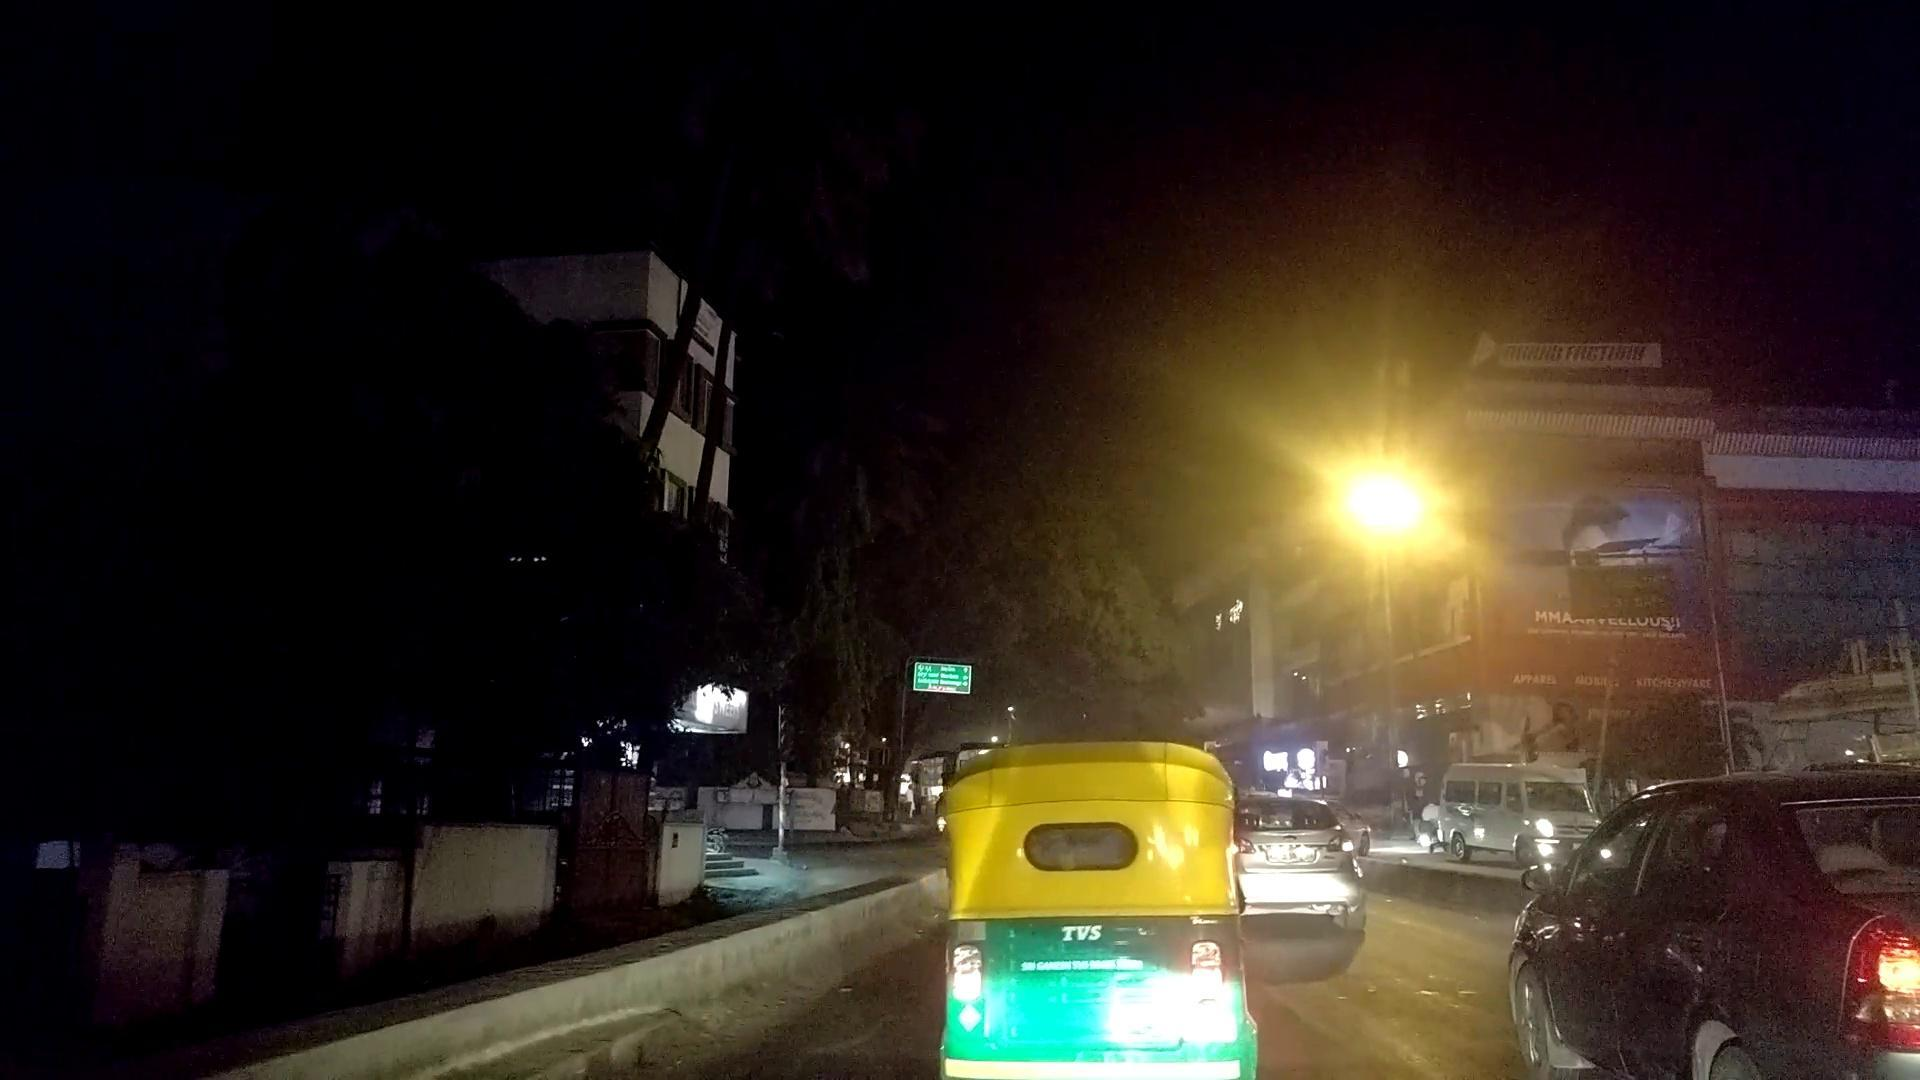on: (1240, 162, 1734, 803)
